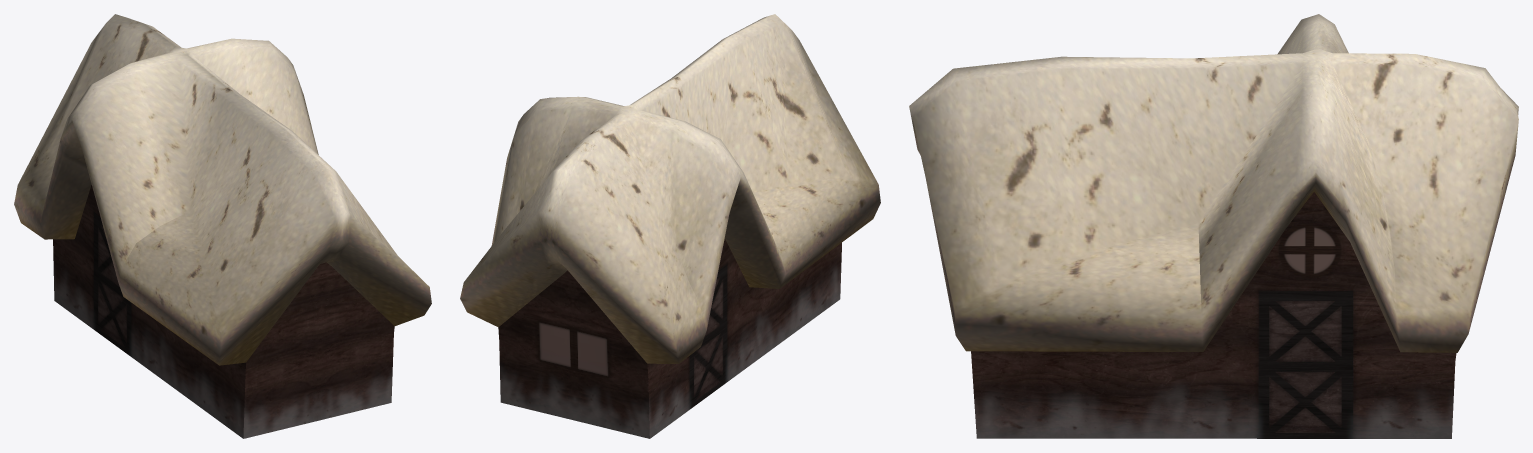
3 views of the same model, side by side, from view 1: azimuth 30°, elevation 25°; view 2: azimuth 150°, elevation 25°; view 3: azimuth 270°, elevation 25° (orthographic). The views are drawn at different scales.
Visible parts, largest first — view 1: Cottage; view 2: Cottage; view 3: Cottage.
Boxes of the visible parts, x1,y1,x2,y2 form: Cottage: [14, 14, 431, 438]; Cottage: [460, 14, 880, 438]; Cottage: [909, 14, 1518, 438].
Bounding box in the file's own units: 4.3 × 5.02 × 8.15.
1 material, 1 textured.
